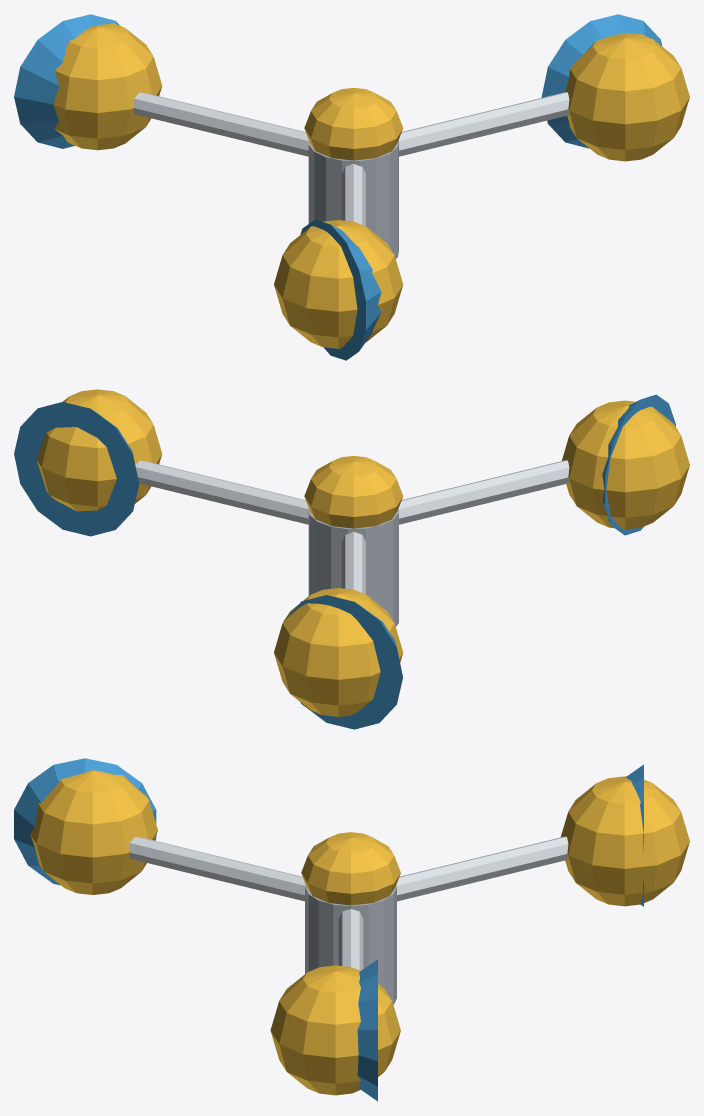
The model's file is ENERGY-021.glb.
3 views of the same model, one above another, from view 1: azimuth 30°, elevation 25°; view 2: azimuth 150°, elevation 25°; view 3: azimuth 270°, elevation 25° (orthographic).
Parts seen in each view (by area): view 1: ENERGY-021; view 2: ENERGY-021; view 3: ENERGY-021.
Boxes of the visible parts, box(x1,y1,x2,y2) form: ENERGY-021: box(14, 14, 689, 360); ENERGY-021: box(14, 389, 689, 729); ENERGY-021: box(14, 758, 689, 1101).
Bounding box in the file's own units: 0.7973 × 0.235 × 0.8804.
